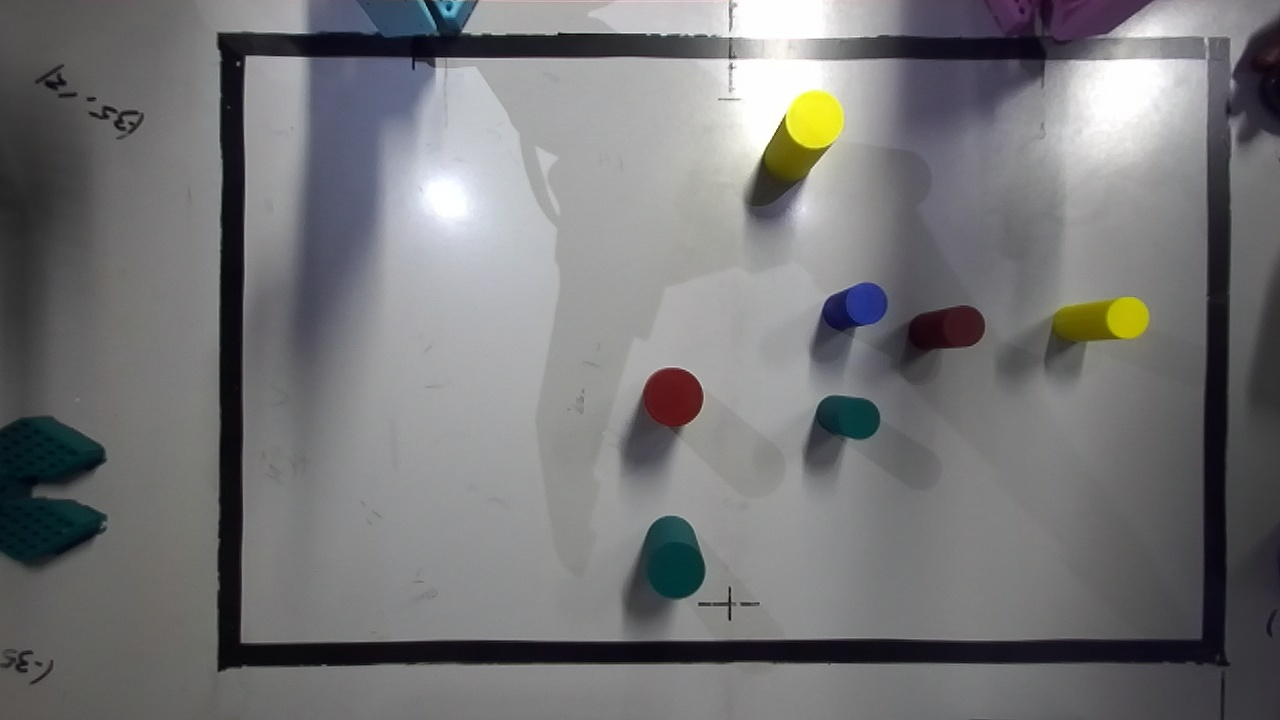cylinder: (762, 90, 843, 181), (642, 516, 705, 598), (1052, 297, 1148, 340), (642, 367, 703, 426), (908, 305, 984, 349), (821, 282, 887, 330), (815, 395, 879, 439)
